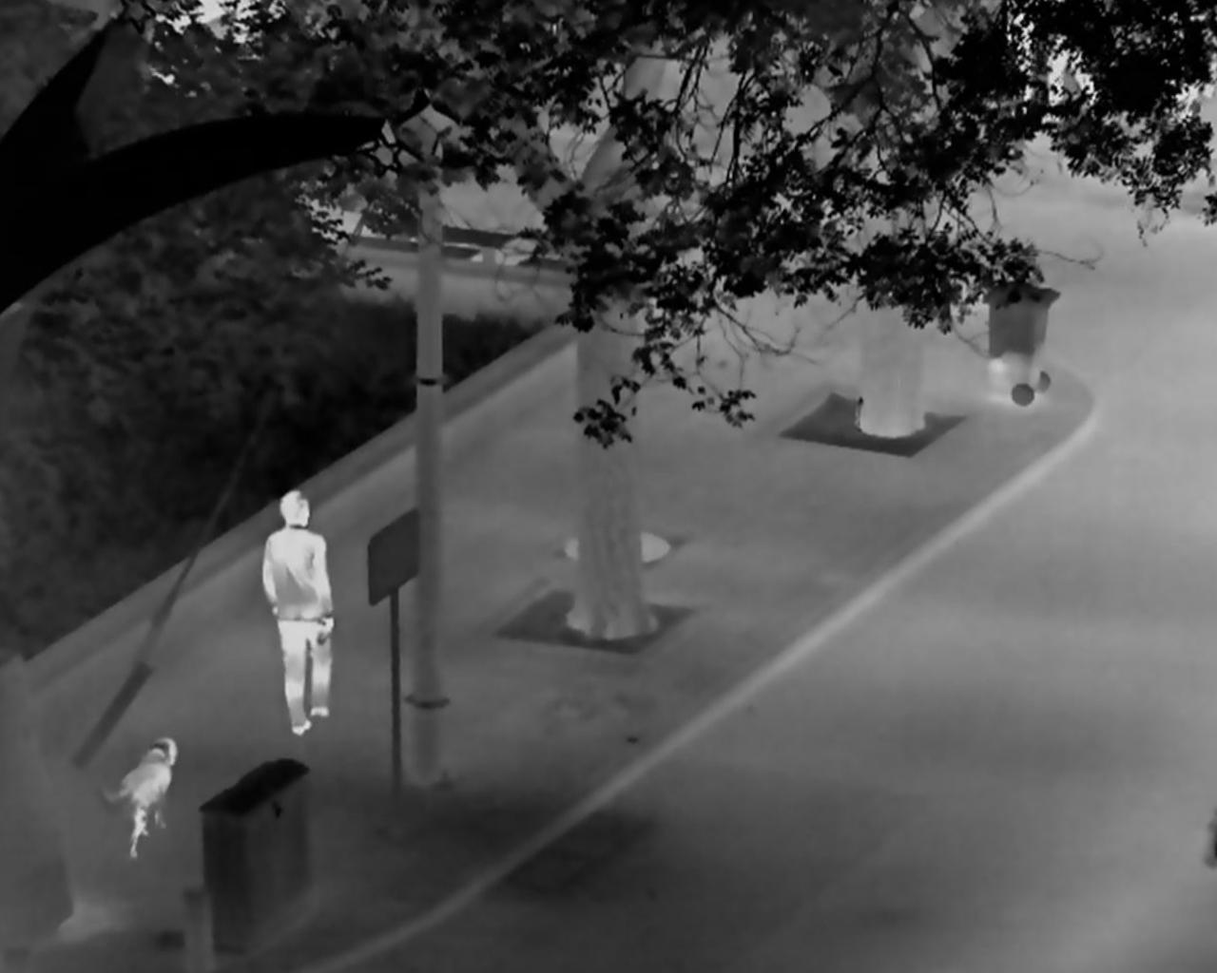person: (261, 487, 337, 735), (1036, 7, 1118, 128)
